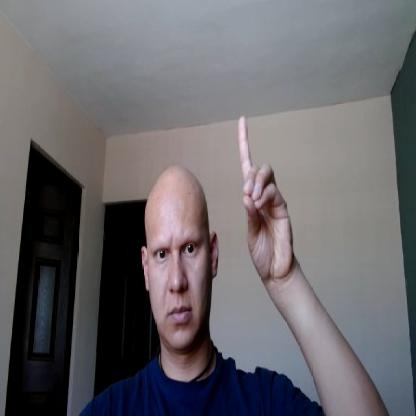D: (237, 115, 293, 281)
